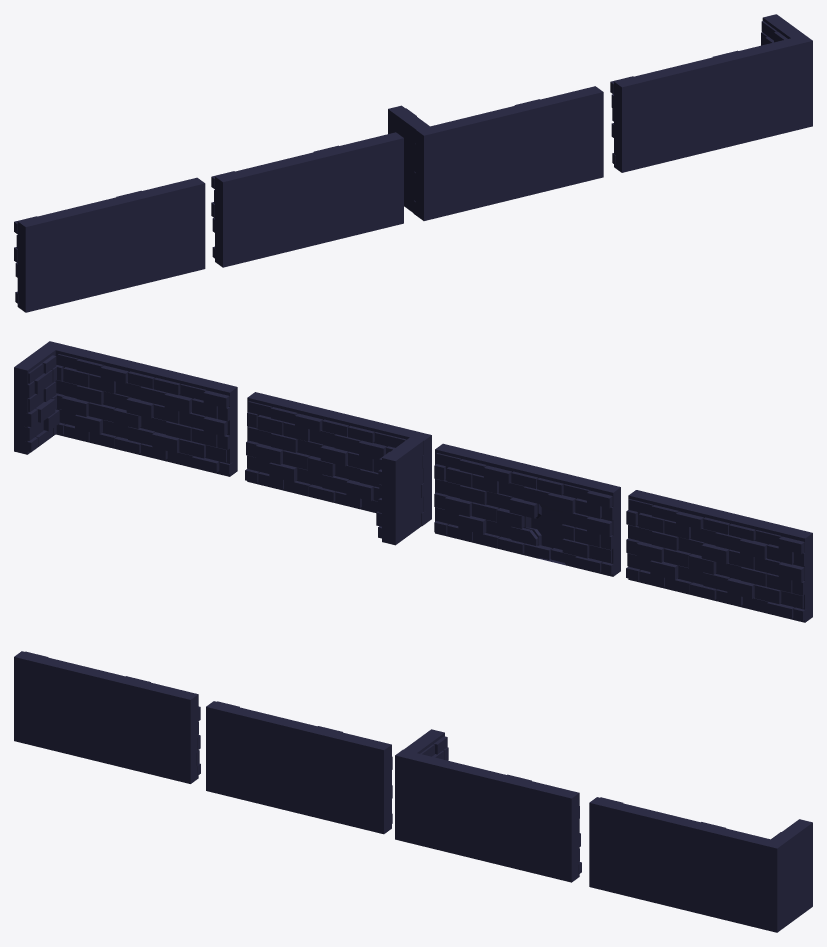
The model's file is murs_set_01.fbx.
The picture shows the model from 3 angles, top to bottom: view 1: azimuth 30°, elevation 25°; view 2: azimuth 150°, elevation 25°; view 3: azimuth 330°, elevation 25°; orthographic projection.
Parts seen in each view (by area): view 1: murs_coin_gris_02, murs_coin_gris_01, murs_brise_gris, murs_simple_gris; view 2: murs_coin_gris_02, murs_coin_gris_01, murs_brise_gris, murs_simple_gris; view 3: murs_coin_gris_02, murs_coin_gris_01, murs_brise_gris, murs_simple_gris.
Boxes of the visible parts, <box> form: murs_coin_gris_02: <box>610,14,812,172</box>; murs_coin_gris_01: <box>388,86,603,220</box>; murs_brise_gris: <box>211,132,403,267</box>; murs_simple_gris: <box>14,177,205,312</box>; murs_coin_gris_02: <box>14,341,237,476</box>; murs_coin_gris_01: <box>245,392,431,545</box>; murs_brise_gris: <box>434,443,620,576</box>; murs_simple_gris: <box>626,490,812,622</box>; murs_coin_gris_02: <box>589,797,812,932</box>; murs_coin_gris_01: <box>395,729,581,882</box>; murs_brise_gris: <box>206,701,392,834</box>; murs_simple_gris: <box>14,651,200,783</box>.
Size of the model in its own units: 125 by 13.42 by 10.23.
Materials: 1 (1 with a texture image).
